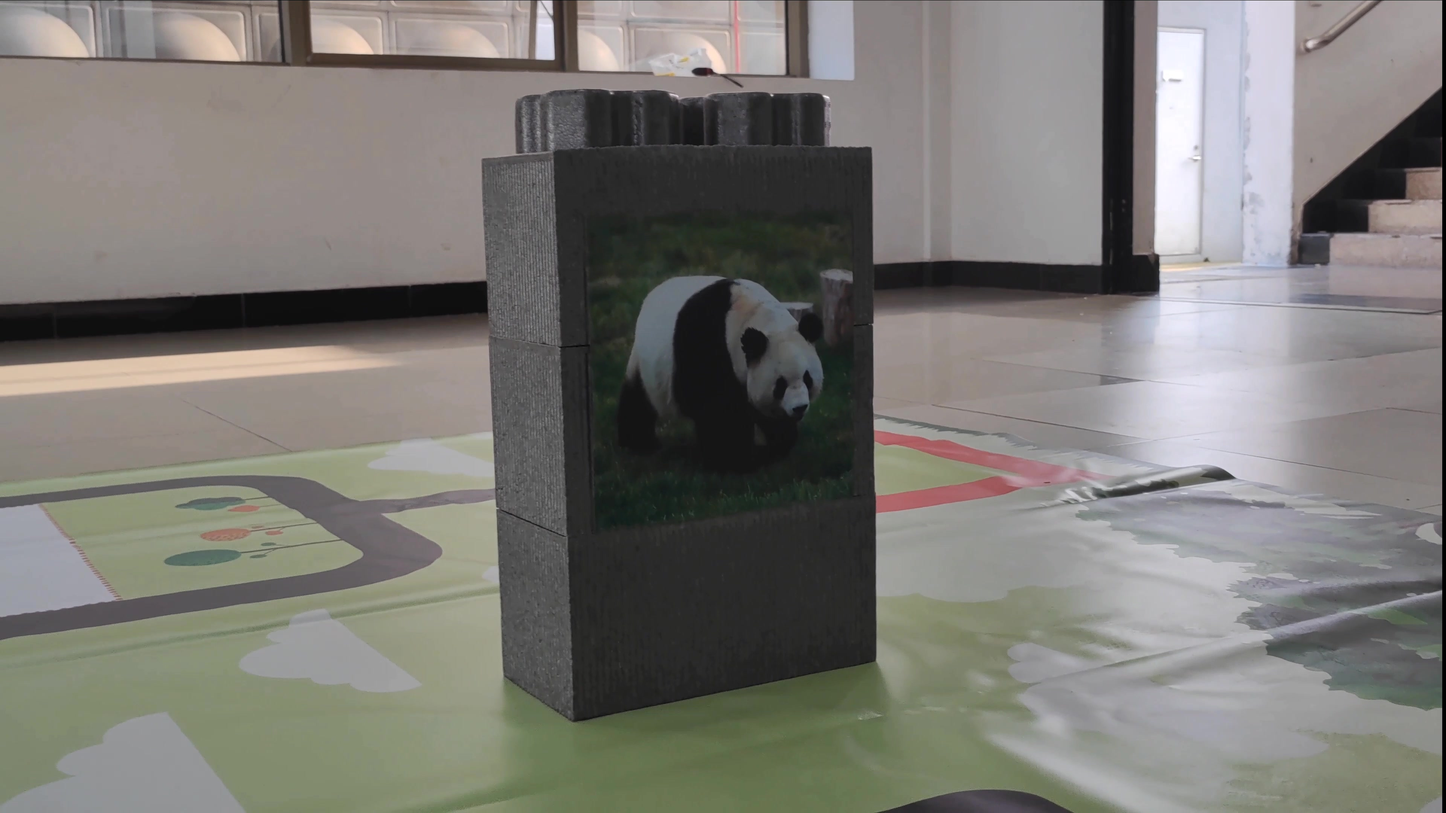panda: (593, 229, 849, 465)
